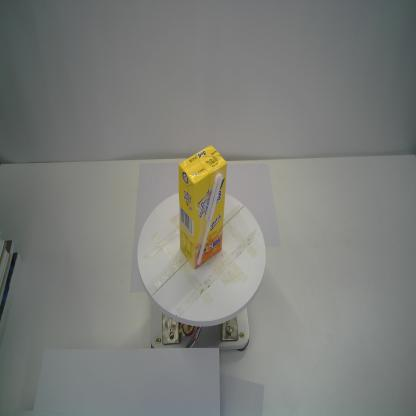Drink: (178, 144, 228, 271)
